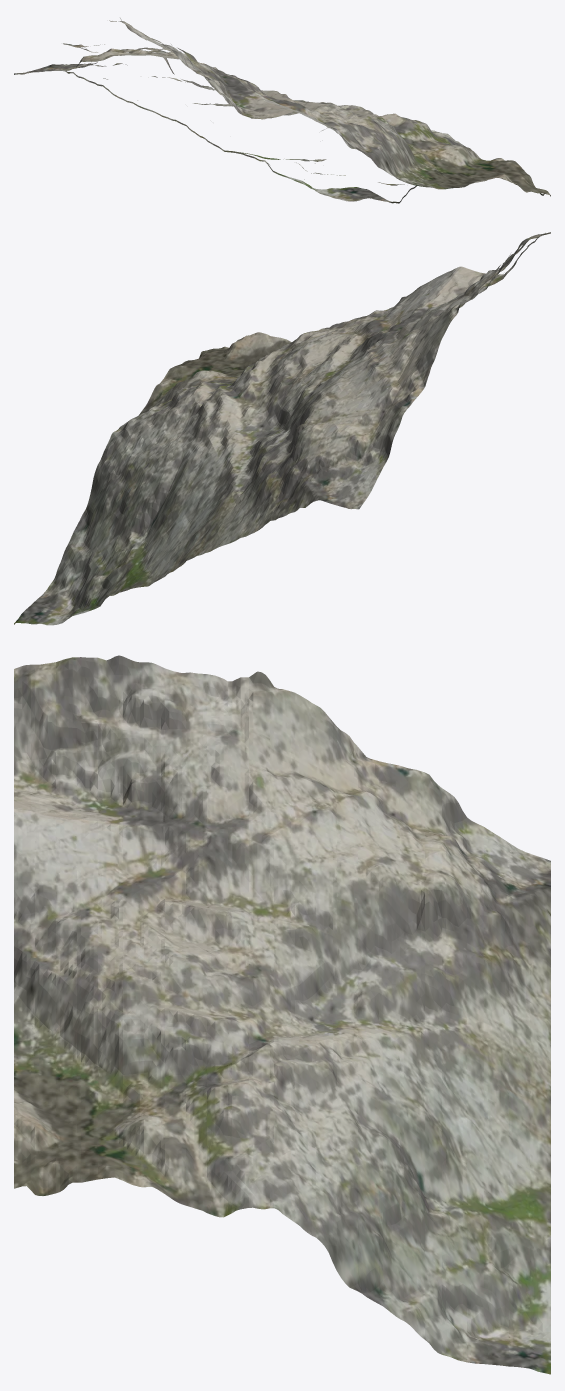
3 renders of one model, top to bottom at view 1: azimuth 30°, elevation 25°; view 2: azimuth 150°, elevation 25°; view 3: azimuth 270°, elevation 25°, orthographic. The views are drawn at different scales.
Size of the model in its own units: 250 by 240 by 241.
1 material, 1 textured.
